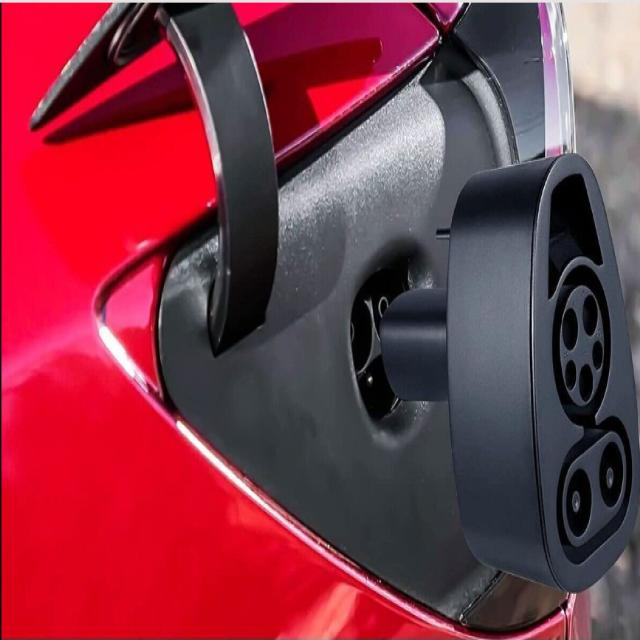CCS1: (545, 272, 640, 596)
